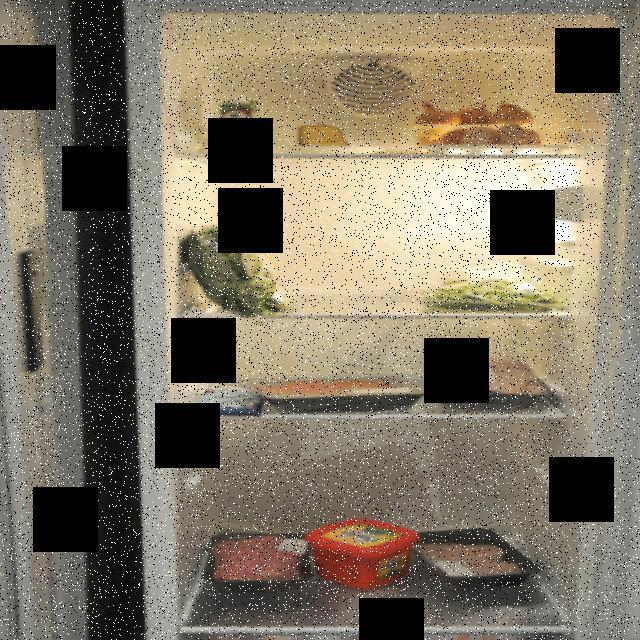beef: (246, 375, 428, 411)
butter: (300, 516, 422, 592)
cheese: (295, 122, 355, 154)
chicken: (422, 344, 550, 414)
chicken_breast: (407, 527, 542, 591)
chocolate: (190, 382, 266, 418)
eggs: (438, 123, 542, 155)
green_beans: (418, 268, 566, 310)
ground_beef: (202, 532, 318, 594)
heavy_cream: (218, 94, 258, 154)
onion: (409, 99, 534, 157)
spinach: (175, 223, 298, 320)
